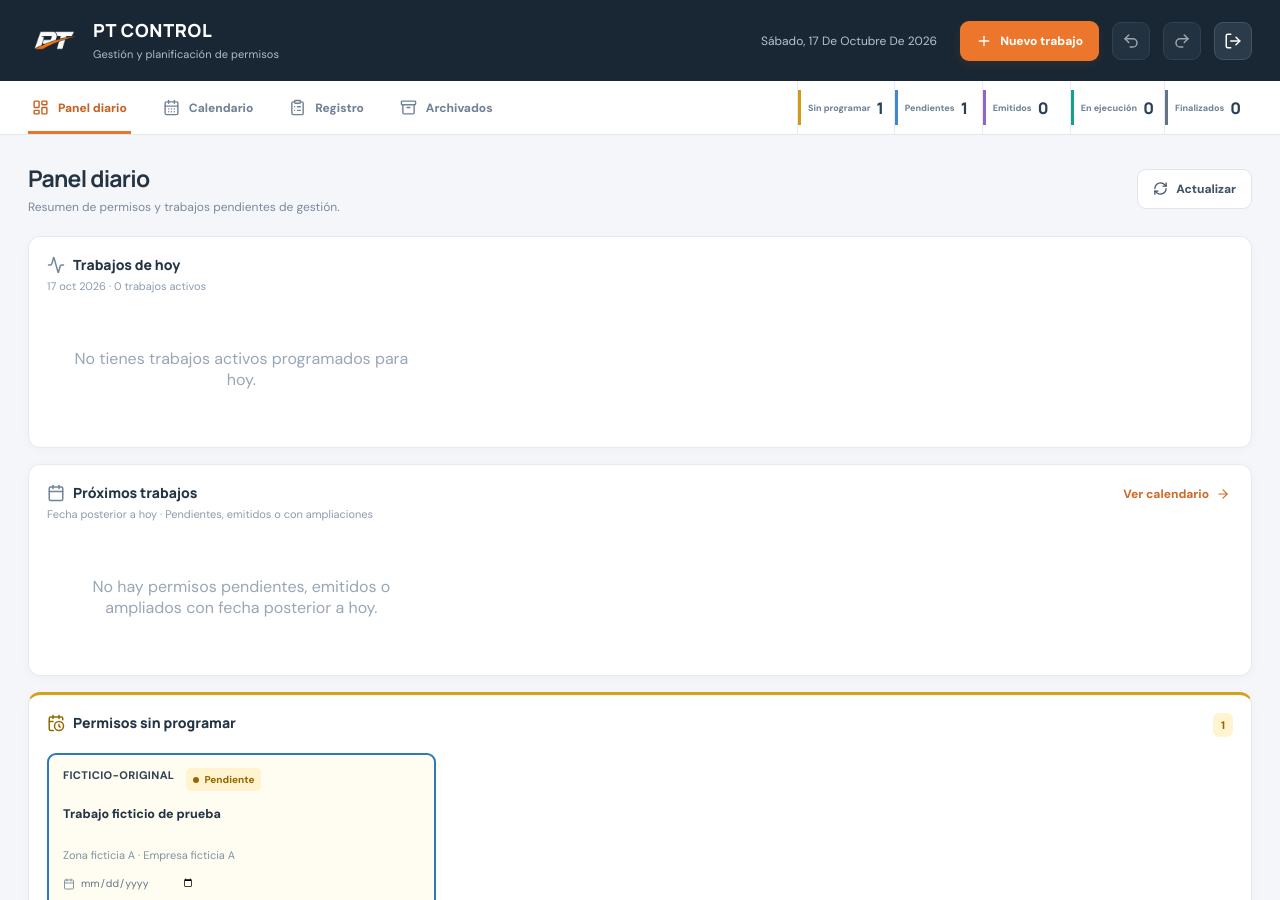
Test: flujos completos con backend simulado solo en pruebas › no comunica éxito y conserva el formulario cuando falla un guardado
The image size is (1280, 900).
Check: the heading "Panel diario" is shown, box [28,162,150,194]
Click the button "Nuevo trabajo" at [1030, 40], box [960,20,1099,60]
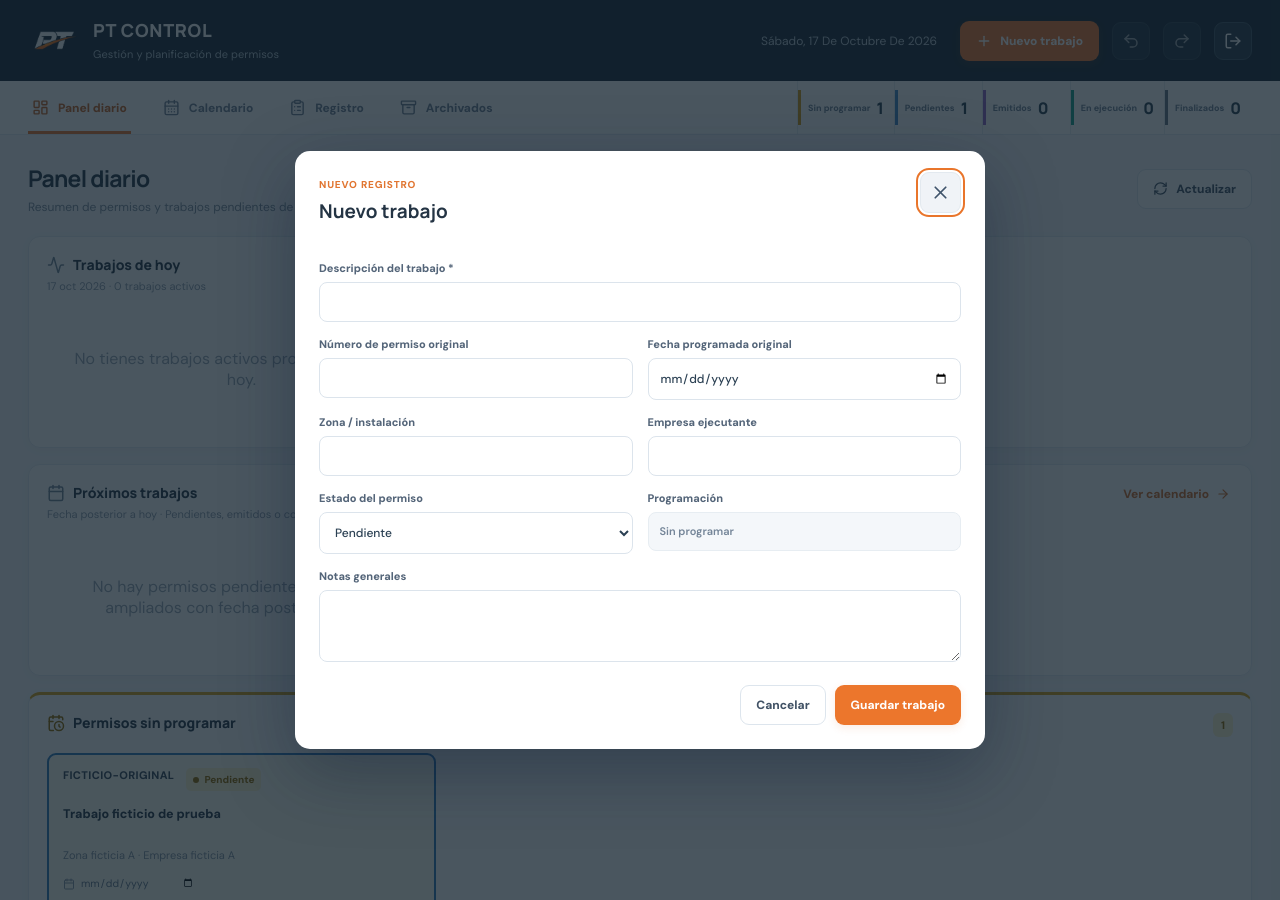
Type "Prueba con error" into the field labelled "Descripción del trabajo *" at [640, 302], box [319,282,961,322]
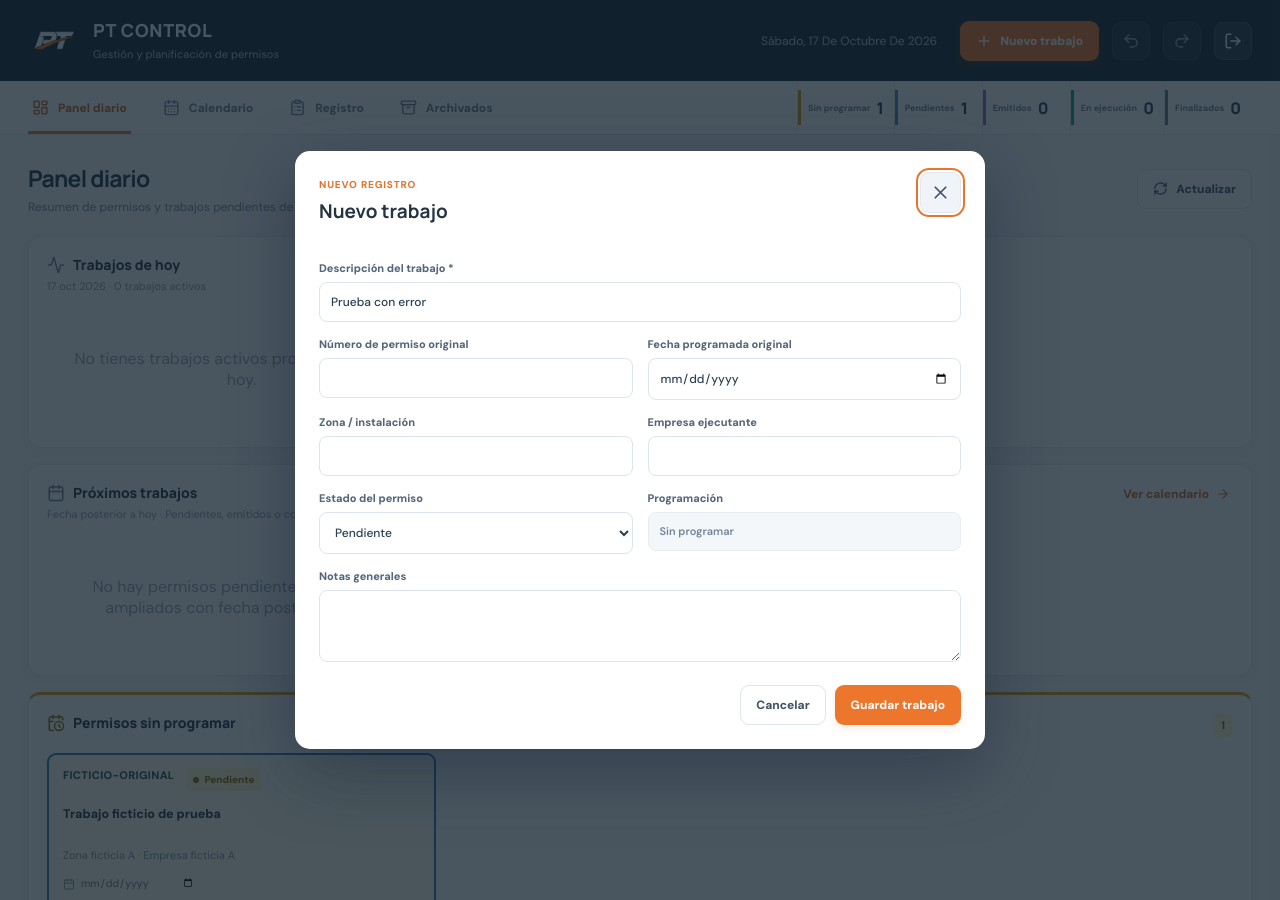
Submit the form named "Guardar trabajo", box [319,261,961,725]
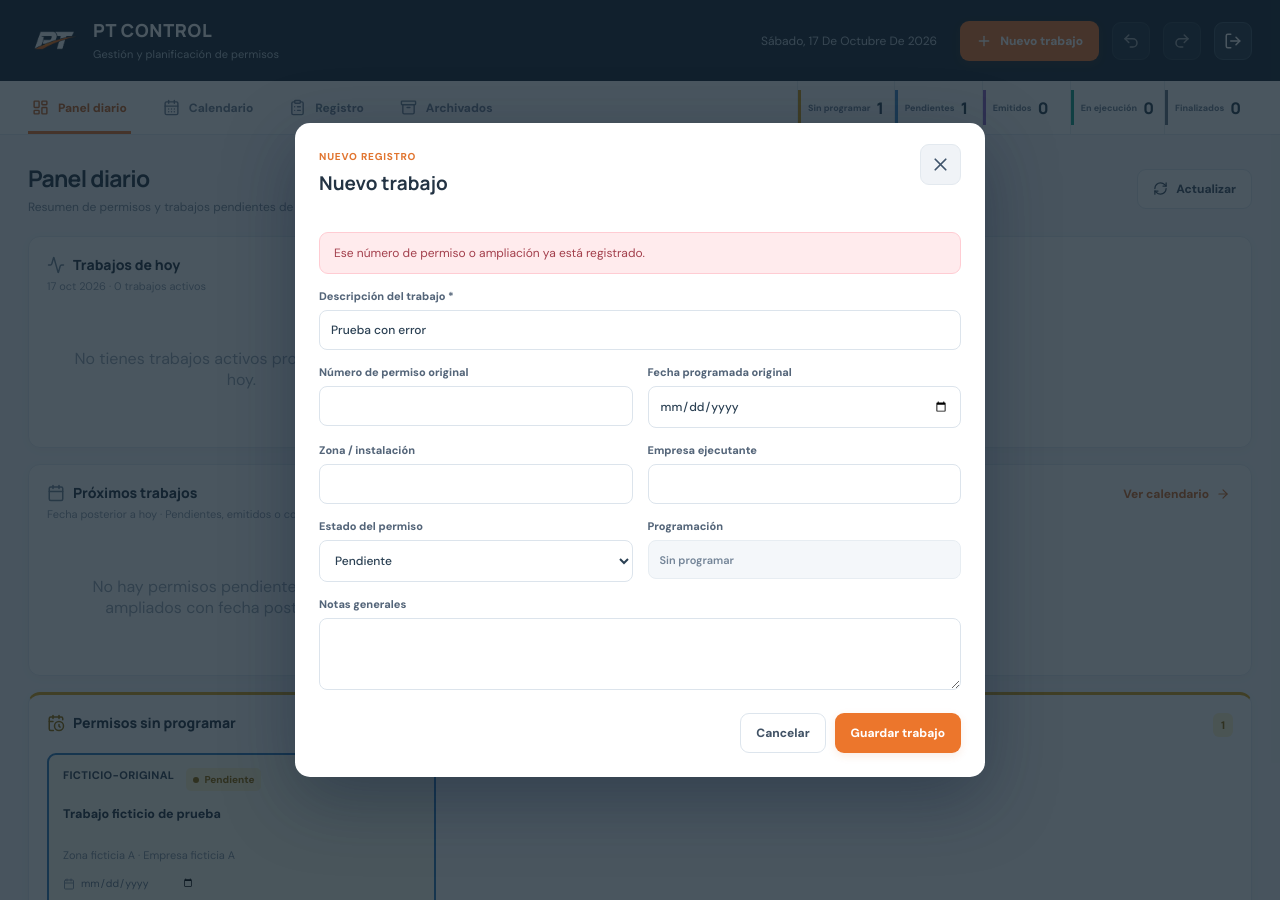
Check: the dialog is shown, box [295,123,985,777]
Check: the message shows "ya está registrado", box [334,245,645,261]
